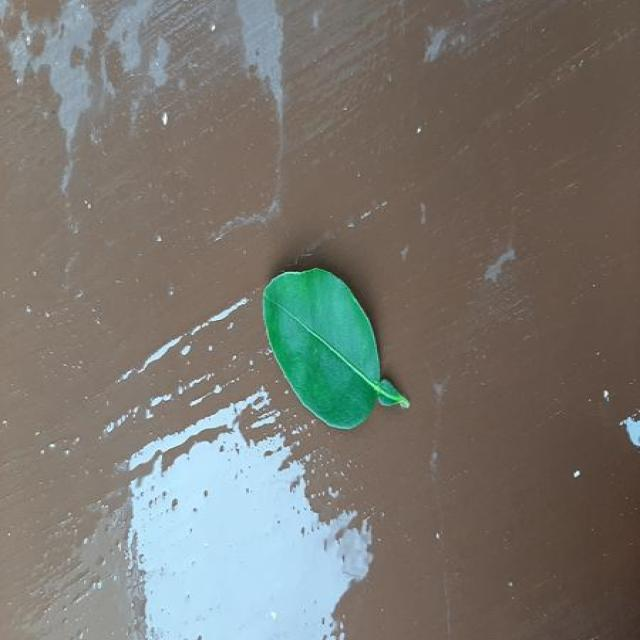lemon: (263, 268, 410, 428)
